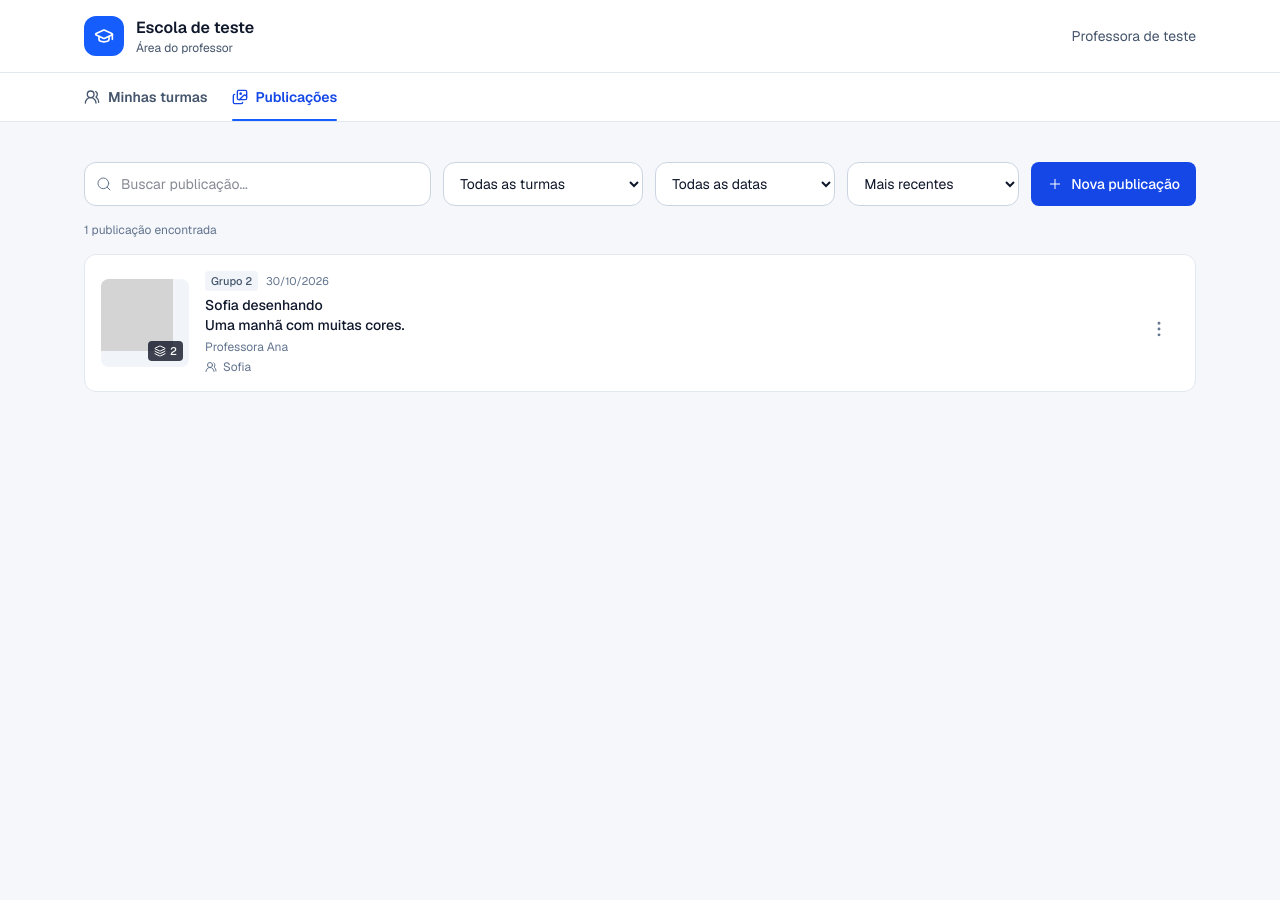
Test case: workspace integrated with existing API contracts › reuses edit without changing class, authorship or date
The image size is (1280, 900).
Click the button named "Ações da publicação: Sofia" at [1159, 329], box [1139,309,1179,349]
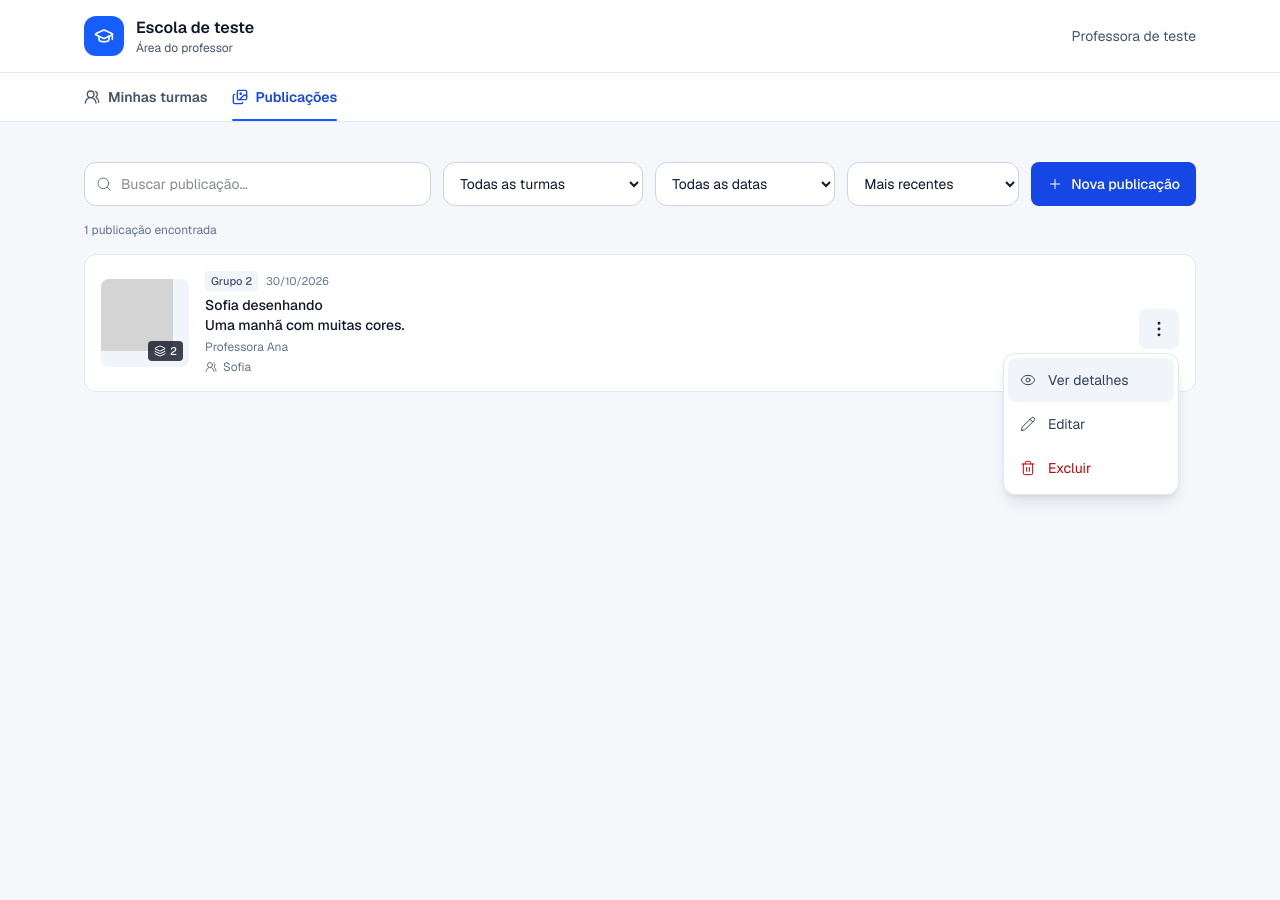
Click the menu item "Editar" at [1091, 424], box [1008,402,1174,446]
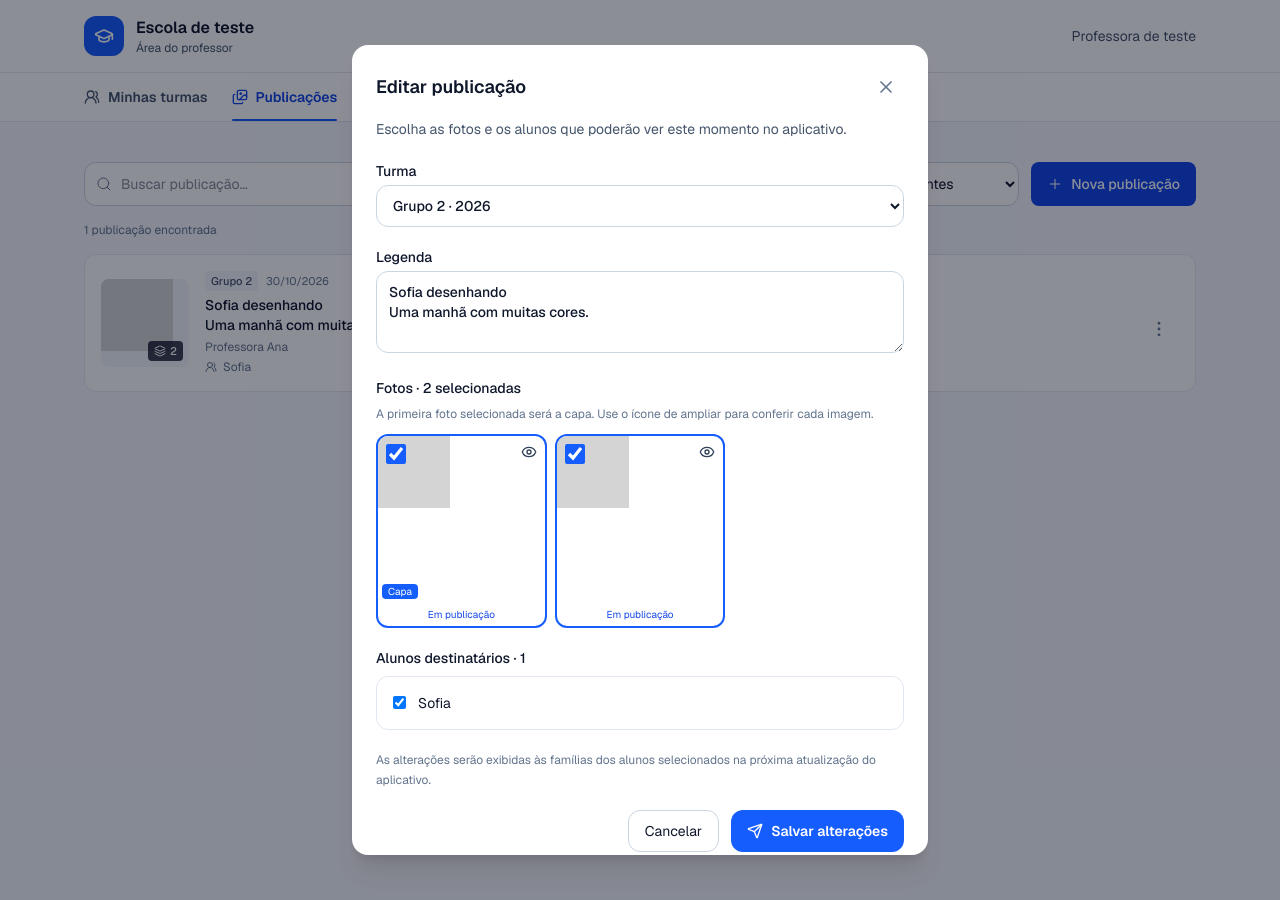
Result: the checkbox named "Selecionar foto 1" is shown at [386,444,406,464]
Result: the dropdown labelled "Turma" is disabled at [376,185,904,227]
Replace the text in the text box labelled "Legenda" with "Legenda atualizada" at [640, 312], box [376,271,904,353]
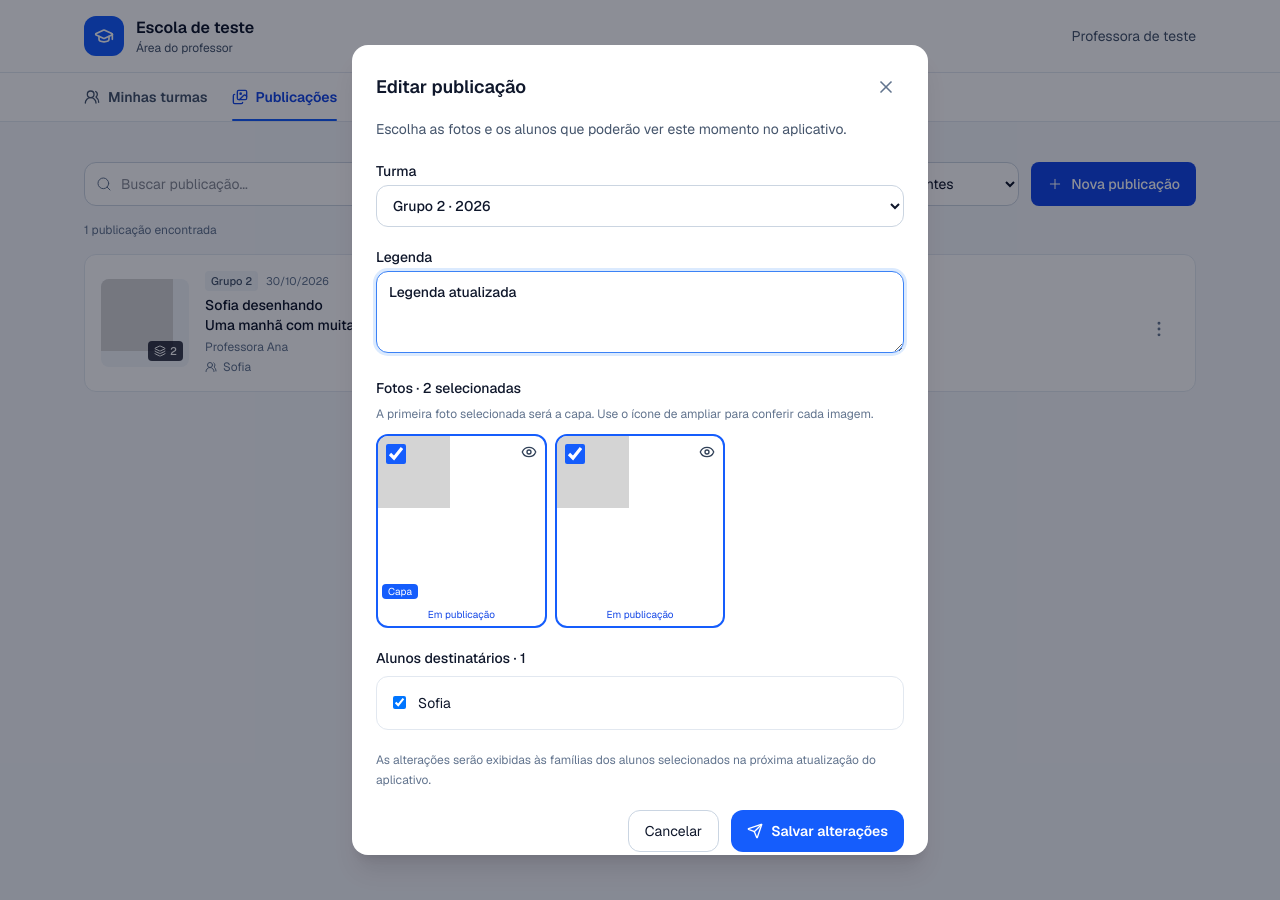
Click the button "Salvar alterações" at [818, 831], box [731,810,904,852]
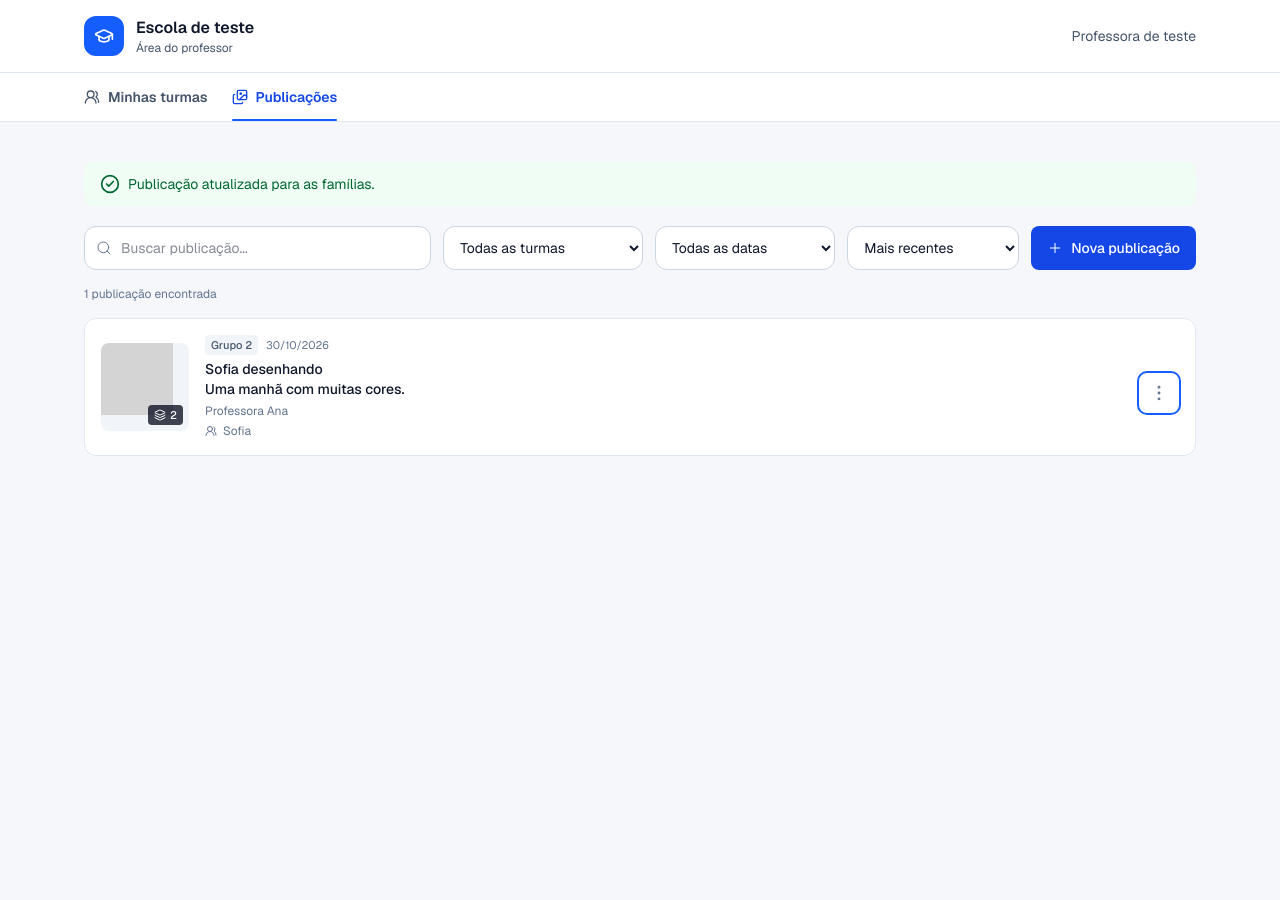
Result: the text "Publicação atualizada para as famílias." is shown at [84,162,1196,206]
